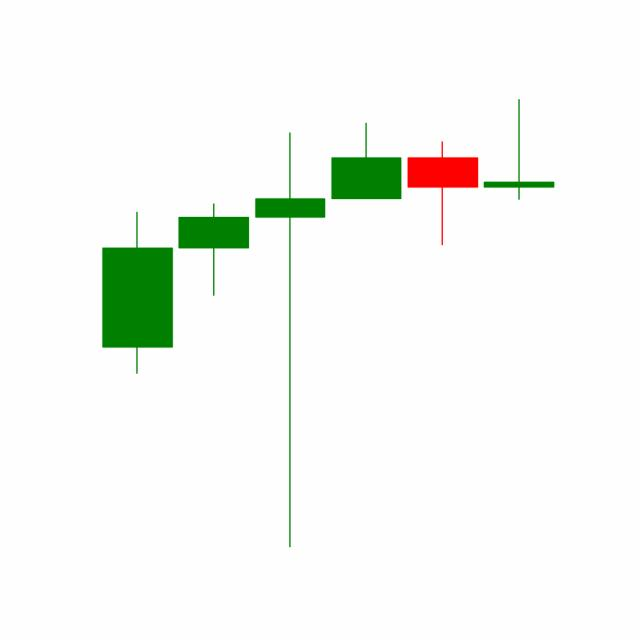Hammer: (403, 140, 481, 247)
